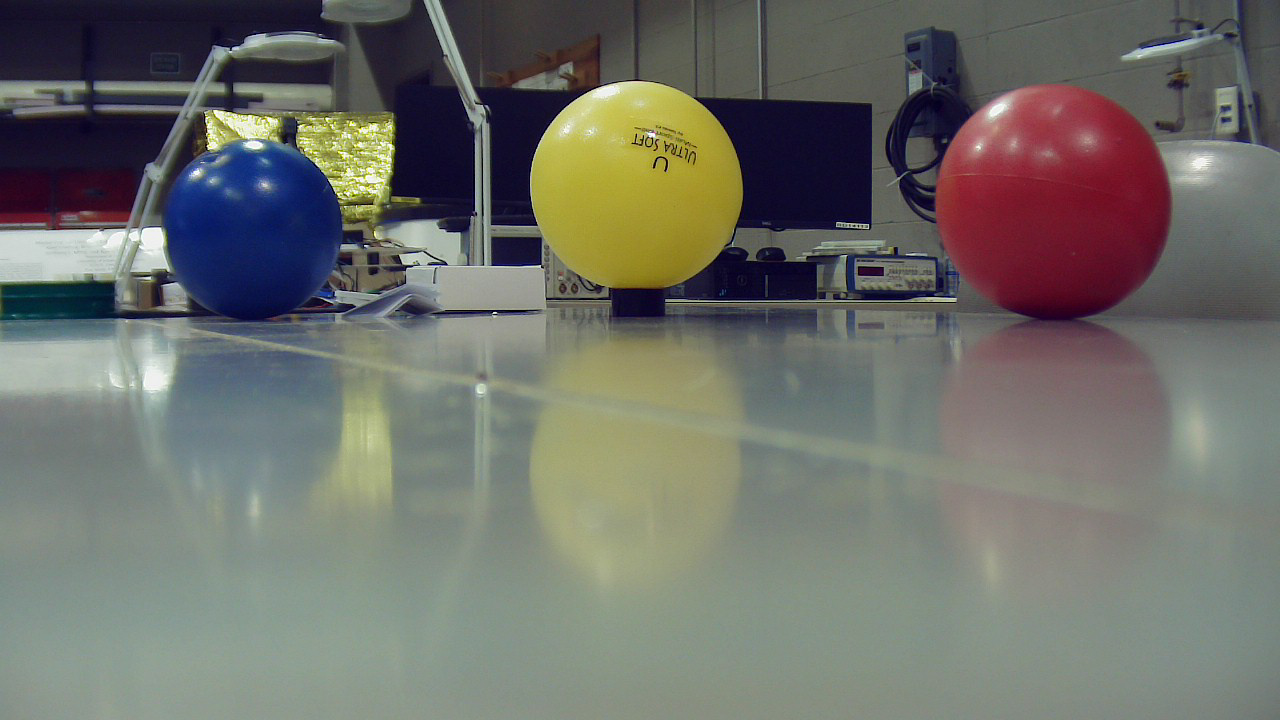blueBall: (166, 140, 351, 329)
redBall: (937, 87, 1179, 328)
yellowBall: (532, 83, 752, 297)
